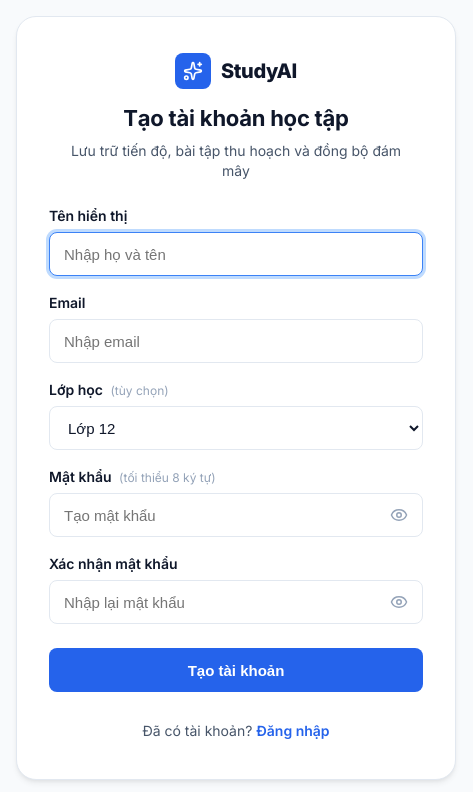
Frontend Authentication UI & Validation Suite › RegisterPage › 2.2. Hiển thị lỗi khi email trùng từ server (409 Conflict)
Type "Nguyễn Văn B" into the field labelled "Tên hiển thị" at (236, 254), box [49,232,423,276]
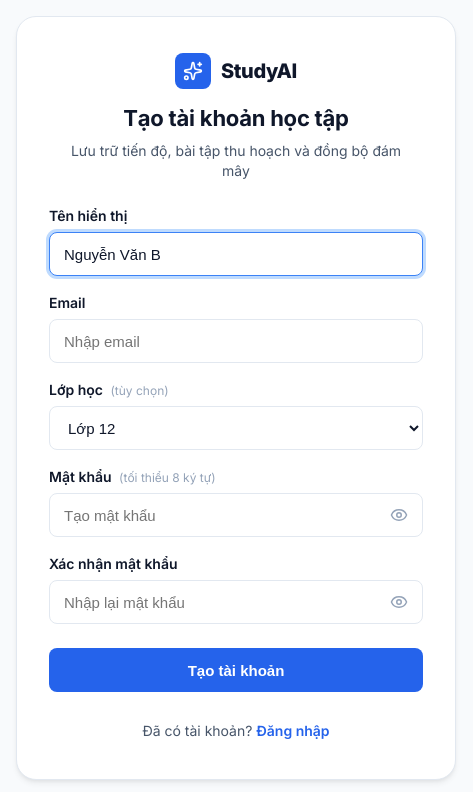
Type "duplicate@example.com" into the field labelled "Email" at (236, 341), box [49,319,423,363]
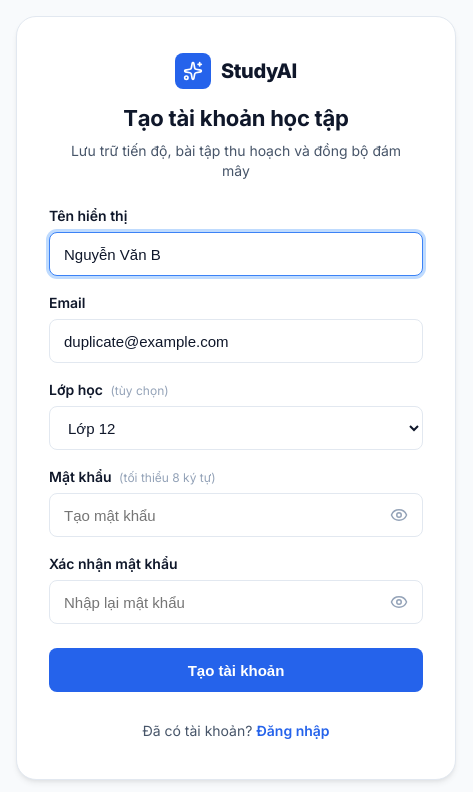
Type "SecurePass123" into the password field labelled "Mật khẩu (tối thiểu 8 ký tự)" at (236, 515), box [49,493,423,537]
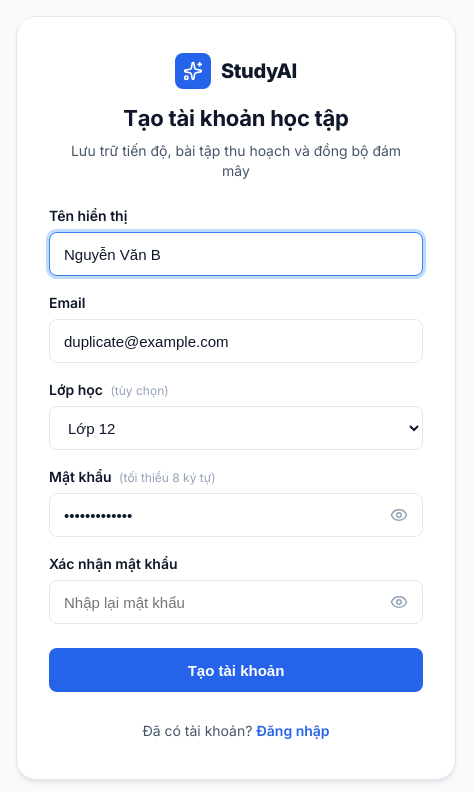
Type "SecurePass123" into the password field labelled "Xác nhận mật khẩu" at (236, 602), box [49,580,423,624]
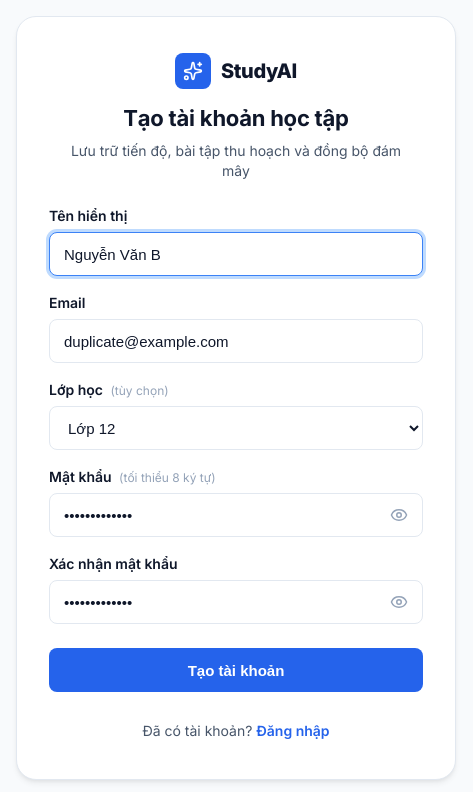
Click the button "Tạo tài khoản" at (236, 670), box [49,648,423,692]
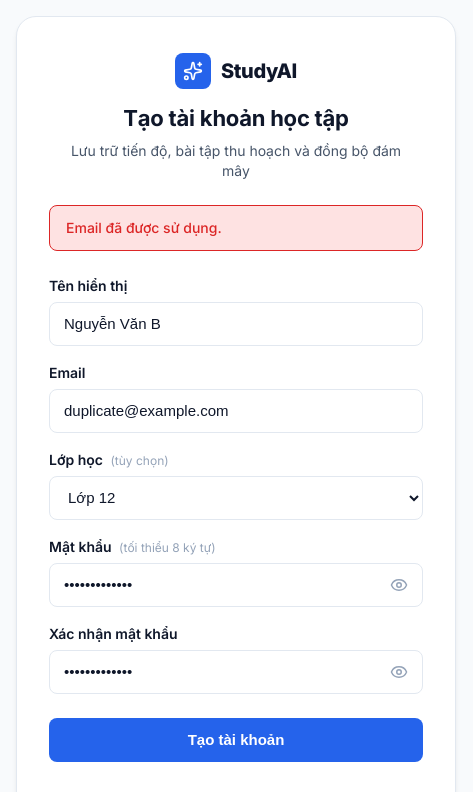
Now the text "Email đã được sử dụng." is shown, box [66,219,222,236]
